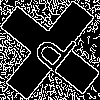P: (25, 25, 80, 82)
